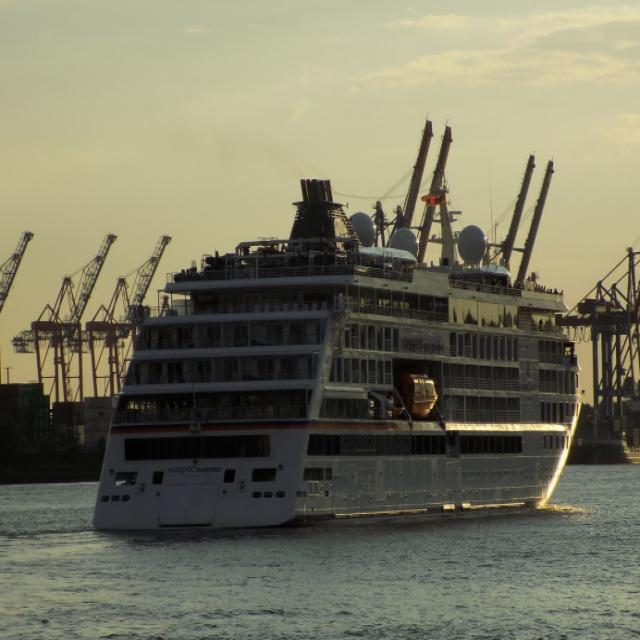cruises: (89, 170, 585, 535)
